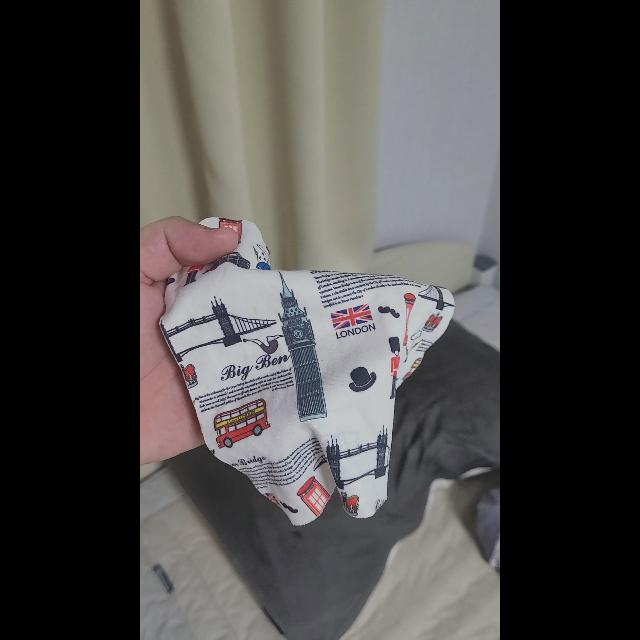Glasses cleaning cloth: (159, 218, 455, 526)
